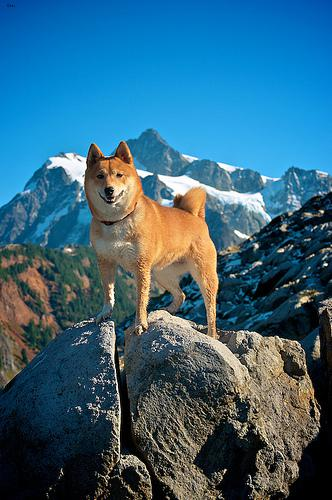dog-shiba_inu: (83, 140, 134, 213)
